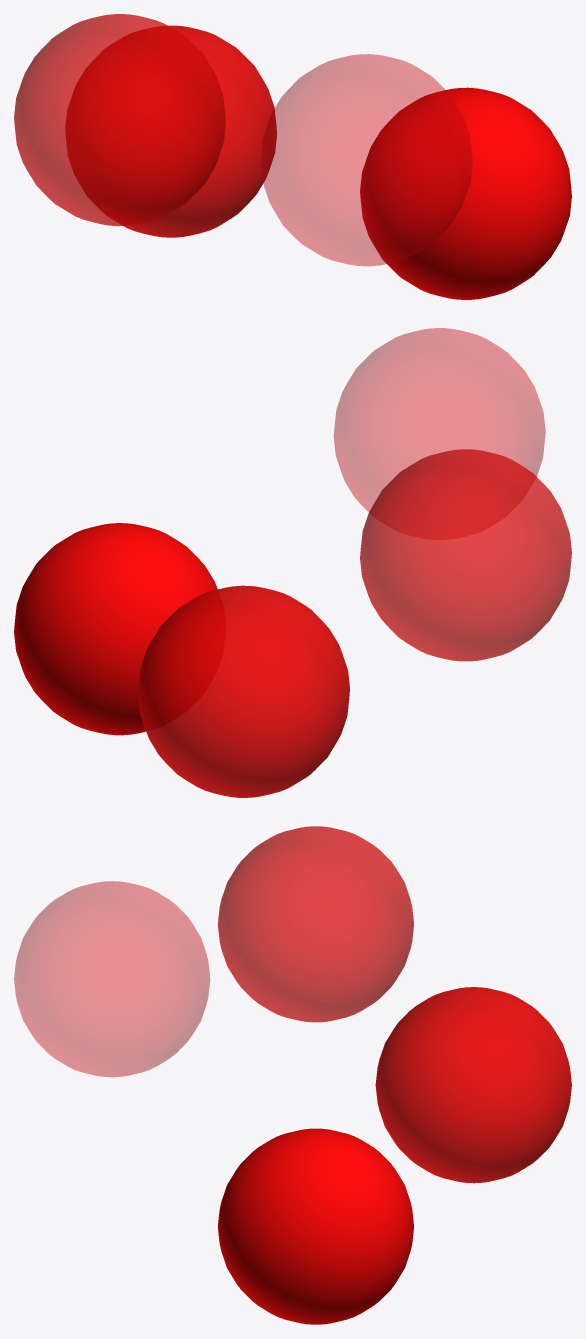
Rendered from alpha-test.glb.
The picture shows the model from 3 angles, top to bottom: view 1: azimuth 30°, elevation 25°; view 2: azimuth 150°, elevation 25°; view 3: azimuth 270°, elevation 25°; orthographic projection. The views are drawn at different scales.
Visible parts, largest first — view 1: Sphere.002, Sphere.003, Sphere.001, Sphere; view 2: Sphere.002, Sphere.001, Sphere.003, Sphere; view 3: Sphere.002, Sphere.003, Sphere.001, Sphere.
Boxes of the visible parts, box(x1,y1,x2,y2) form: Sphere.002: box(14, 14, 225, 226); Sphere.003: box(360, 87, 571, 299); Sphere.001: box(65, 25, 276, 237); Sphere: box(261, 54, 472, 265); Sphere.002: box(360, 449, 571, 661); Sphere.001: box(138, 585, 349, 797); Sphere.003: box(14, 523, 217, 735); Sphere: box(334, 328, 545, 511); Sphere.002: box(217, 826, 413, 1022); Sphere.003: box(217, 1128, 413, 1324); Sphere.001: box(375, 987, 571, 1183); Sphere: box(14, 881, 209, 1076).
Size of the model in its own units: 5.76 by 3.72 by 5.68.
